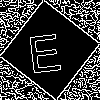E: (25, 25, 64, 74)
